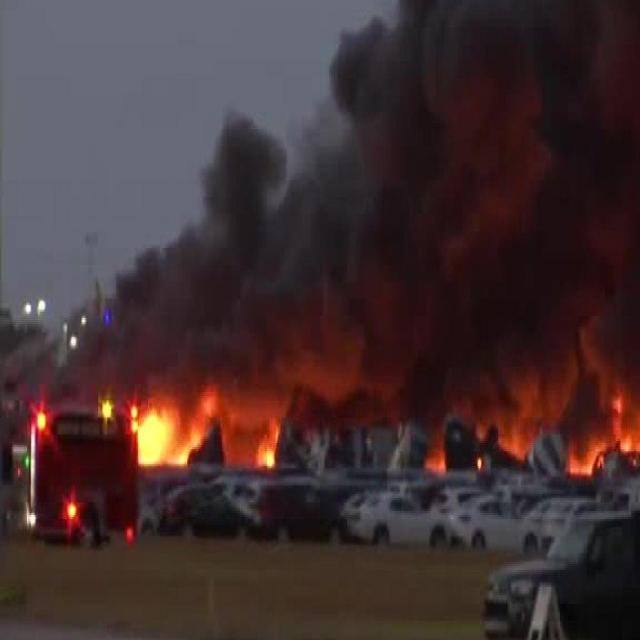Fire: (136, 387, 215, 463), (568, 388, 630, 479), (256, 420, 279, 470)
